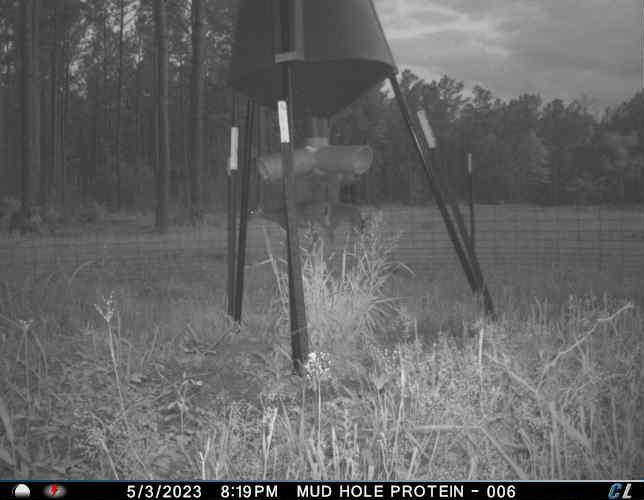Deer: (247, 199, 327, 246), (316, 201, 372, 250)
